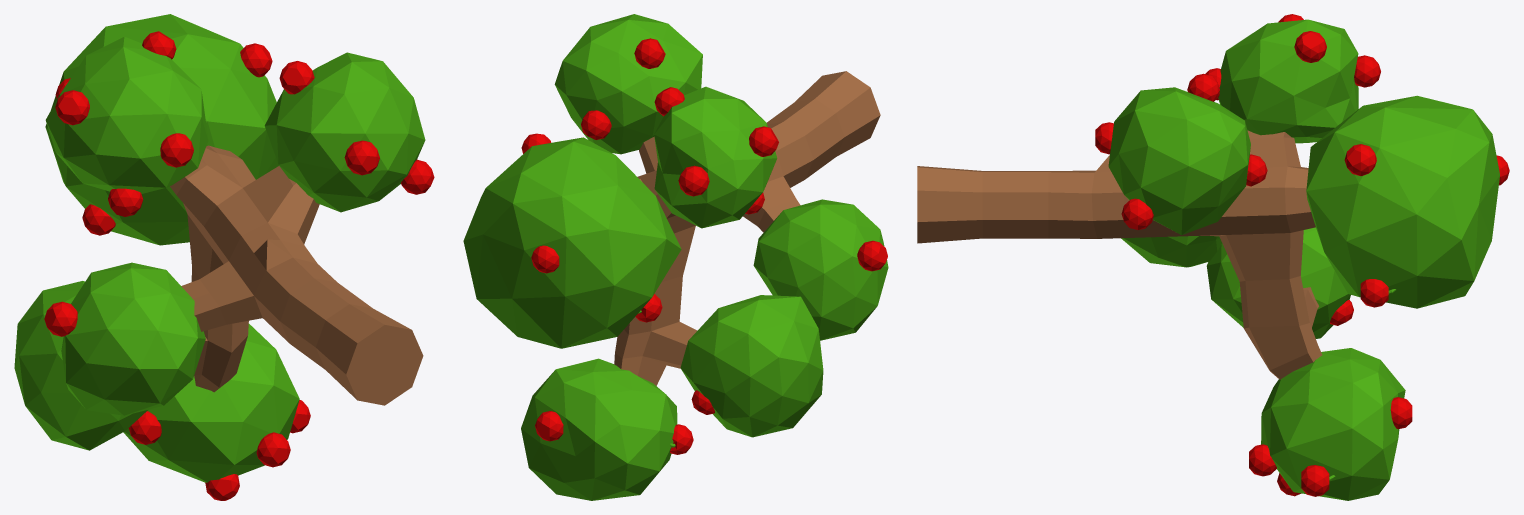
The model's file is arvore002.fbx.
3 views of the same model, side by side, from view 1: azimuth 30°, elevation 25°; view 2: azimuth 150°, elevation 25°; view 3: azimuth 270°, elevation 25° (orthographic). The views are drawn at different scales.
Parts seen in each view (by area): view 1: Macas; view 2: Macas; view 3: Macas.
Boxes of the visible parts, x1,y1,x2,y2 form: Macas: (14,14,434,500); Macas: (463,14,888,500); Macas: (917,14,1509,500).
Bounding box in the file's own units: 523 × 657 × 807.
